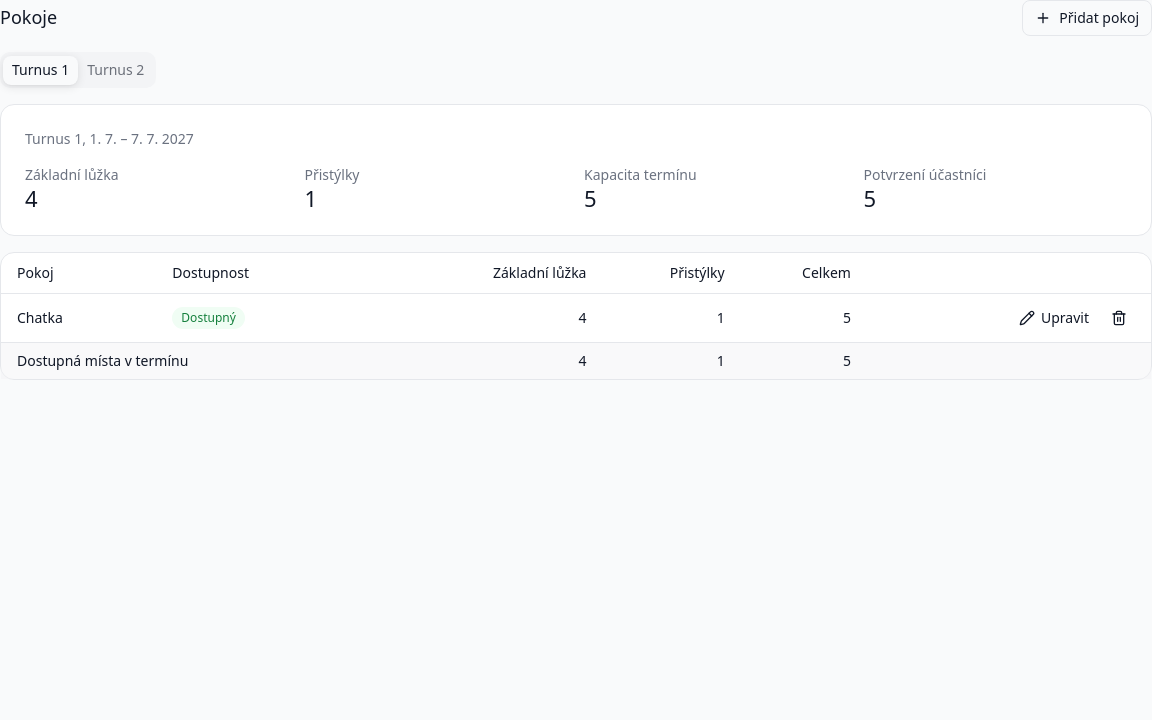
RoomsSection › names the terms, capacity and confirmed participants of a refused change
Click the button with aria-label "Upravit pokoj Chatka" at (1054, 318), box x1=1009 y1=302 x2=1099 y2=334
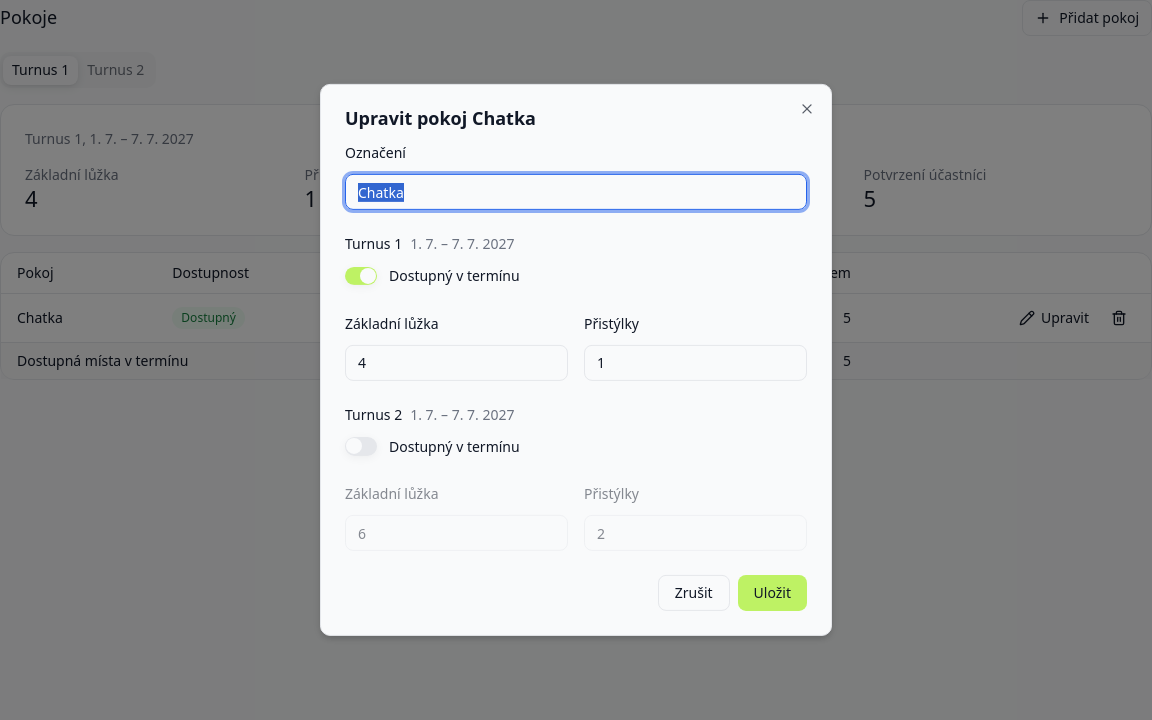
Click the button "Uložit" at (772, 593), box x1=738 y1=575 x2=807 y2=611
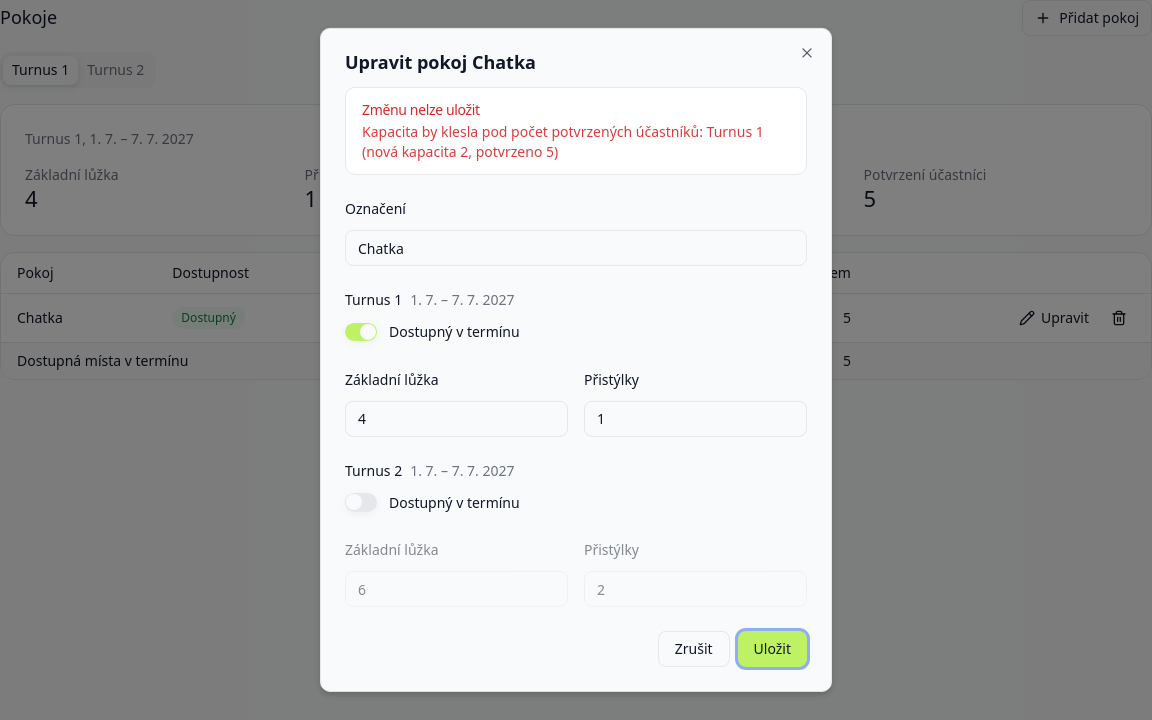
Expected: the 1st field labelled "Základní lůžka" holds "4", x1=345 y1=401 x2=568 y2=437
Expected: the text "Změnu nelze uložit" is shown, x1=362 y1=100 x2=480 y2=119
Expected: the text "Turnus 1 (nová kapacita 2, potvrzeno 5)" is shown, x1=362 y1=122 x2=764 y2=161
